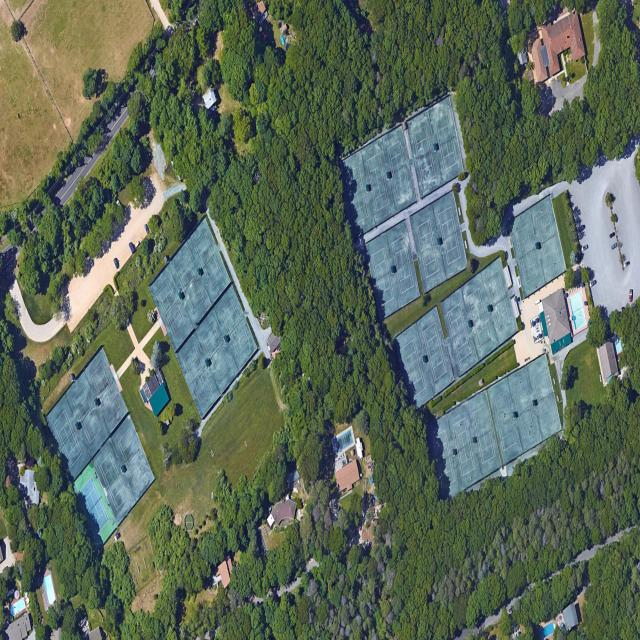large-vehicle: (630, 289, 633, 302)
small-vehicle: (577, 223, 586, 234), (113, 257, 120, 269), (116, 199, 123, 211), (129, 242, 135, 254), (144, 223, 150, 235), (589, 280, 597, 289), (623, 260, 631, 268), (610, 242, 617, 251), (581, 244, 588, 251), (89, 258, 94, 267), (609, 232, 615, 239), (621, 308, 625, 318), (334, 499, 337, 509)
